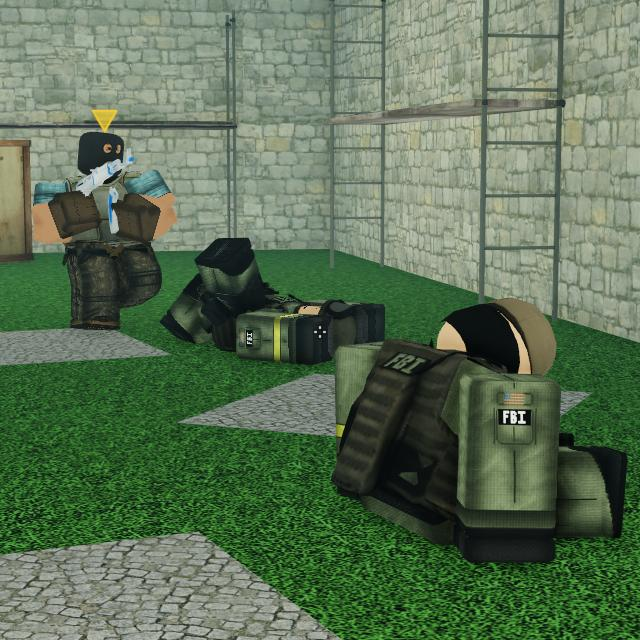Head: (79, 132, 124, 177)
Player: (32, 132, 177, 329)
